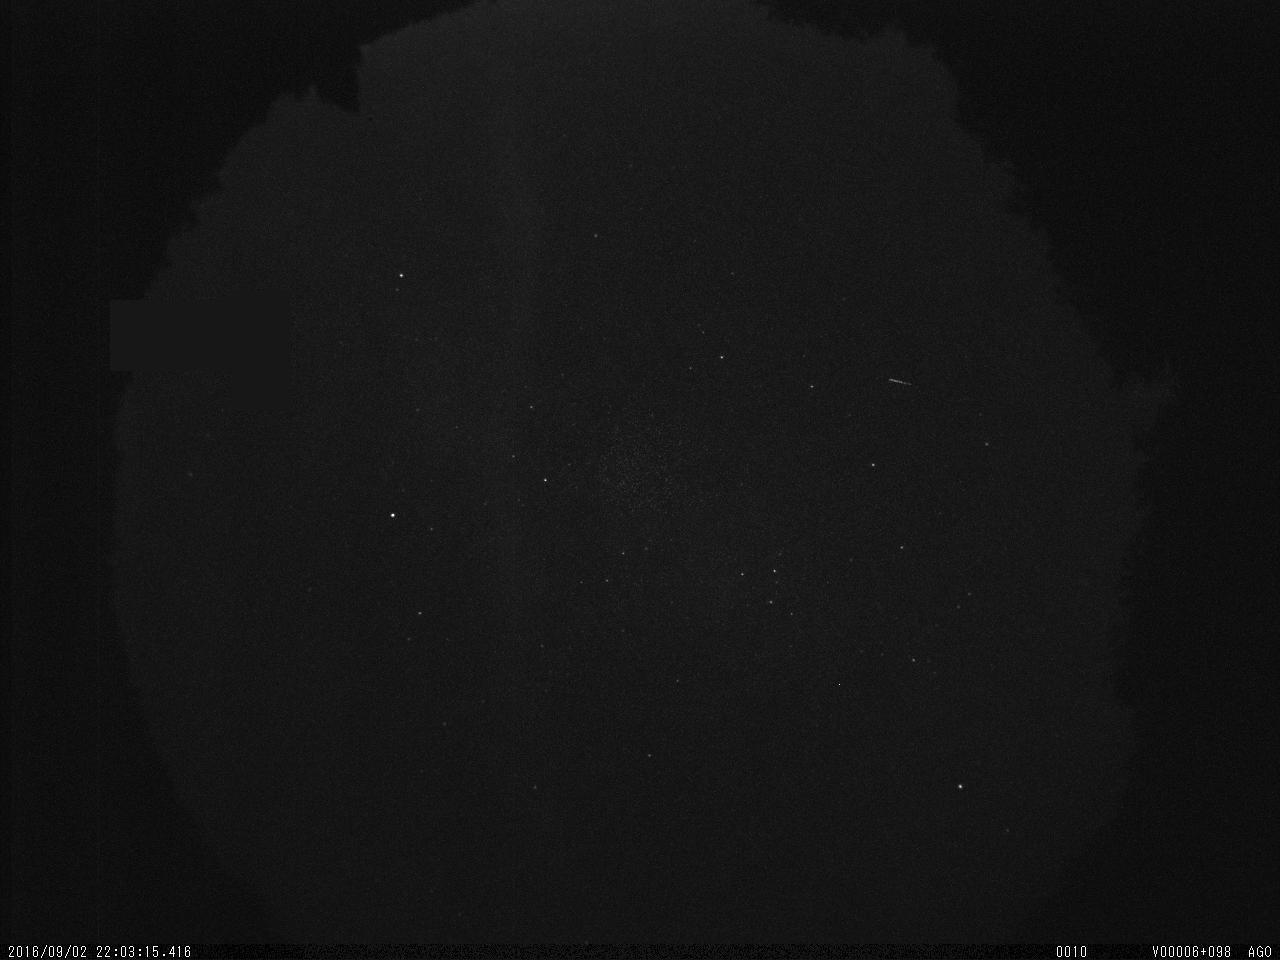meteor: (882, 370, 924, 399)
